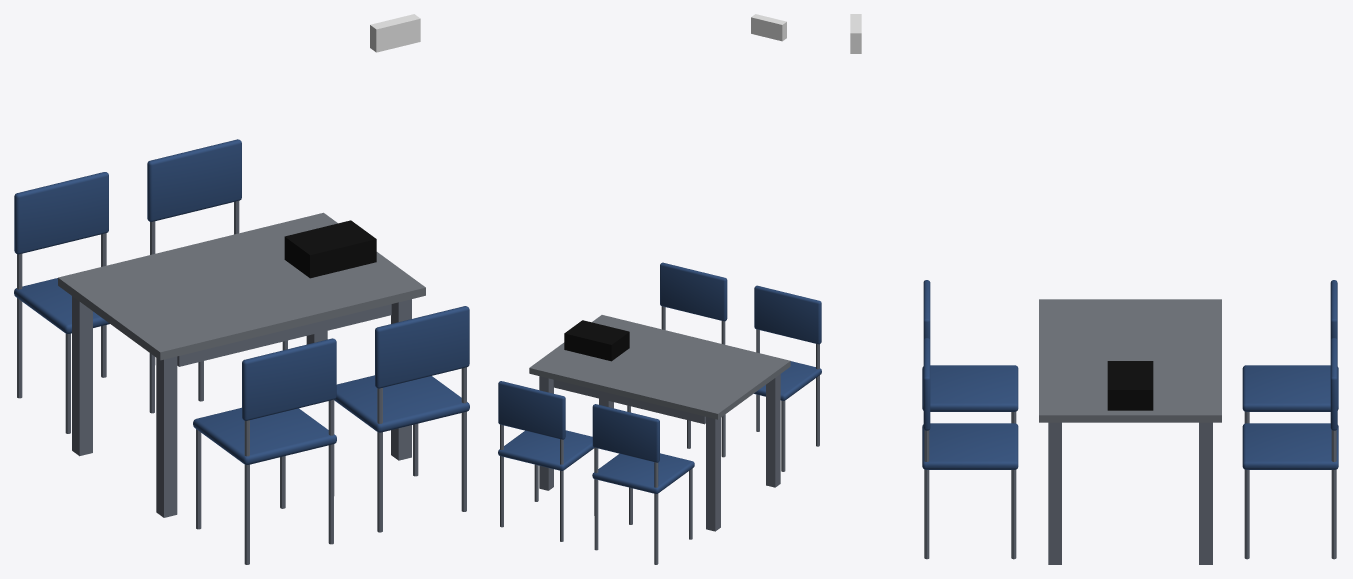
The model's file is police.custody.interview_room.glb.
3 views of the same model, side by side, from view 1: azimuth 30°, elevation 25°; view 2: azimuth 150°, elevation 25°; view 3: azimuth 270°, elevation 25° (orthographic). The views are drawn at different scales.
Parts seen in each view (by area): view 1: main__fabric_blue, main__laminate_grey, main__steel_painted, main__plastic_black, main__plastic_white; view 2: main__fabric_blue, main__laminate_grey, main__steel_painted, main__plastic_black, main__plastic_white; view 3: main__laminate_grey, main__fabric_blue, main__steel_painted, main__plastic_black.
Boxes of the visible parts, x1,y1,x2,y2 form: main__fabric_blue: [14, 139, 469, 464]; main__laminate_grey: [58, 212, 425, 360]; main__steel_painted: [17, 200, 466, 564]; main__plastic_black: [284, 220, 376, 278]; main__plastic_white: [370, 14, 420, 52]; main__fabric_blue: [498, 262, 821, 493]; main__laminate_grey: [529, 315, 790, 419]; main__steel_painted: [500, 306, 819, 564]; main__plastic_black: [564, 320, 629, 361]; main__plastic_white: [751, 14, 786, 41]; main__laminate_grey: [1039, 299, 1221, 422]; main__fabric_blue: [922, 280, 1338, 469]; main__steel_painted: [924, 411, 1336, 564]; main__plastic_black: [1107, 361, 1153, 410].
Bounding box in the file's own units: 1.2 × 2.35 × 2.13.
